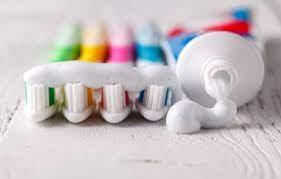toothpaste: (164, 13, 269, 106)
